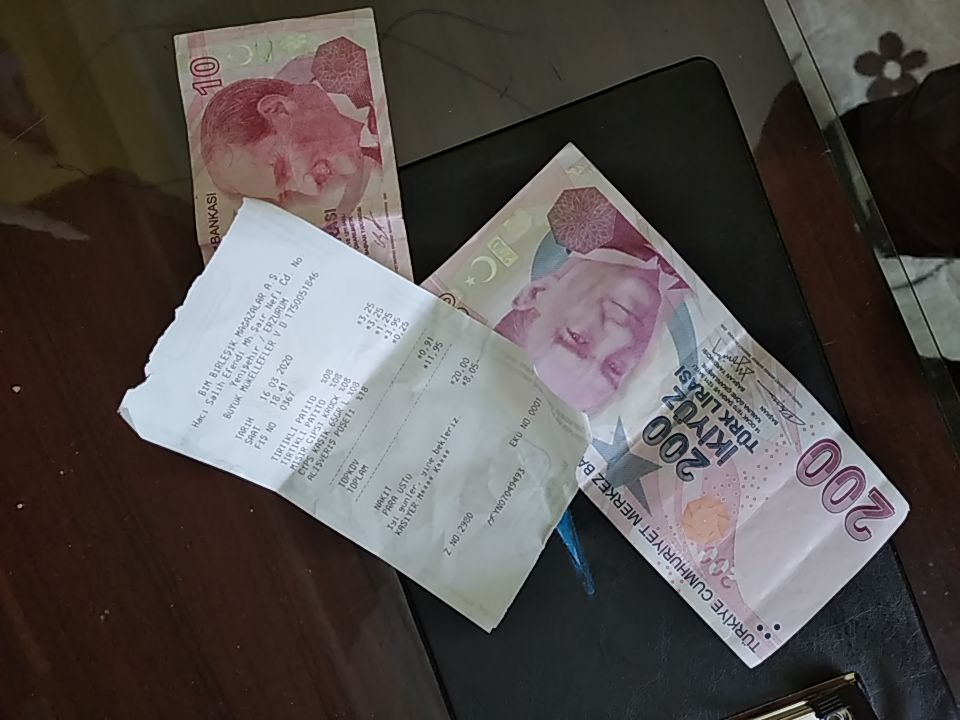200TL: (416, 141, 912, 672)
